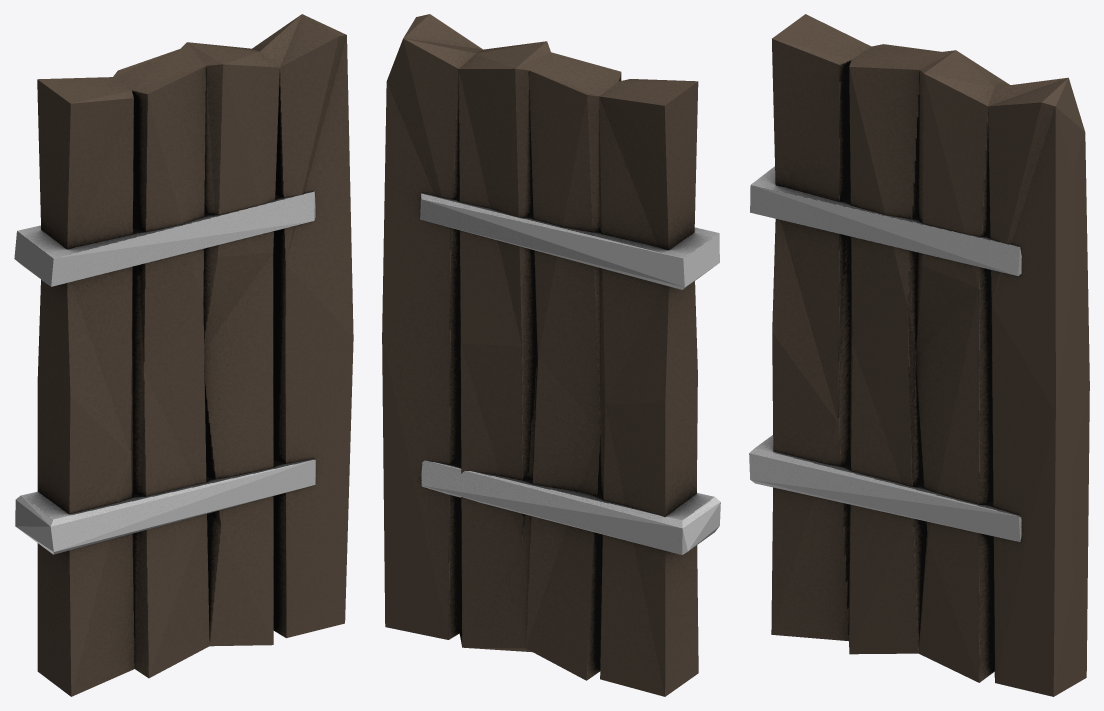
The model's file is Door.glb.
The picture shows the model from 3 angles, left to right: view 1: azimuth 30°, elevation 25°; view 2: azimuth 150°, elevation 25°; view 3: azimuth 330°, elevation 25°; orthographic projection.
Visible parts, largest first — view 1: door, Panel; view 2: door, Panel; view 3: door, Panel.
Boxes of the visible parts, bbox=[...] form: door: bbox=[37, 14, 353, 696]; Panel: bbox=[14, 191, 315, 554]; door: bbox=[382, 14, 698, 696]; Panel: bbox=[420, 193, 720, 554]; door: bbox=[771, 14, 1089, 696]; Panel: bbox=[749, 166, 1021, 542].
Size of the model in its own units: 1.08 by 2.02 by 0.2314.
2 materials, 2 textured.
